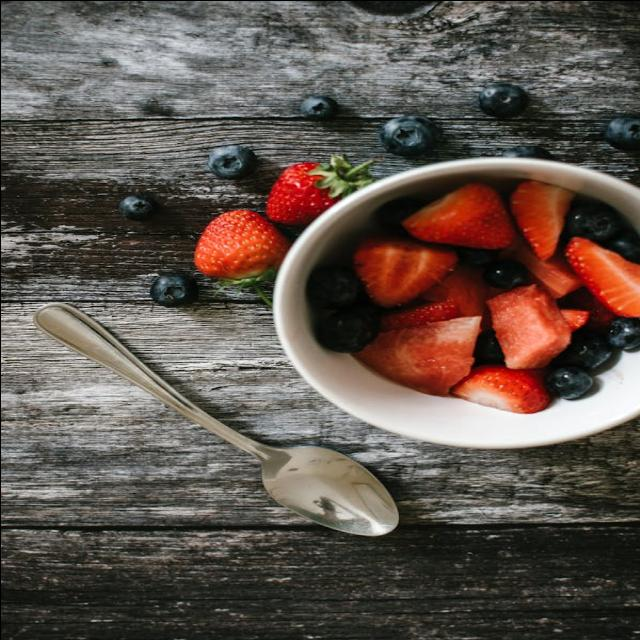spoon: (32, 301, 399, 534)
